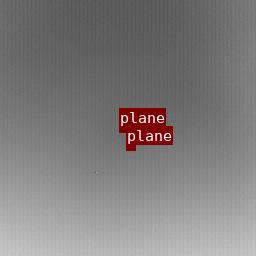plane: (119, 127, 133, 132), (126, 145, 135, 150)
